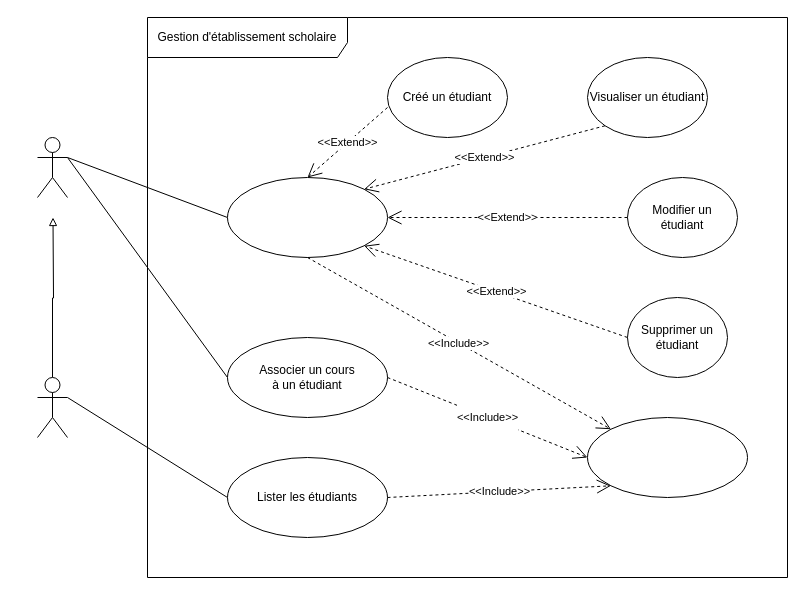
Some shapes in this 805 by 595 pixel diagram are drawn without their labels. The shapes that lost their labels are listed below. From the top down, each one's centre as x and y in pixels, then its label:
At point 52,167: "Responsable".
At point 307,217: "Géré un étudiant".
At point 52,407: "Directeur".
At point 667,457: "S'authentifier".
